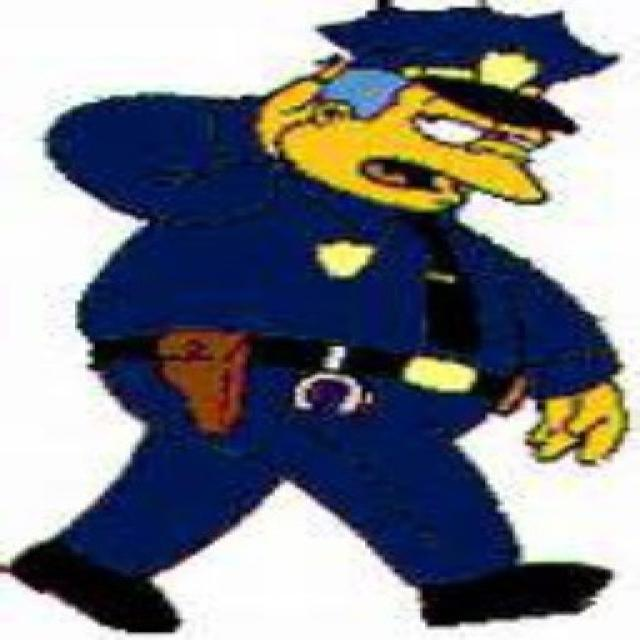Chief Wiggam: (304, 1, 611, 212)
